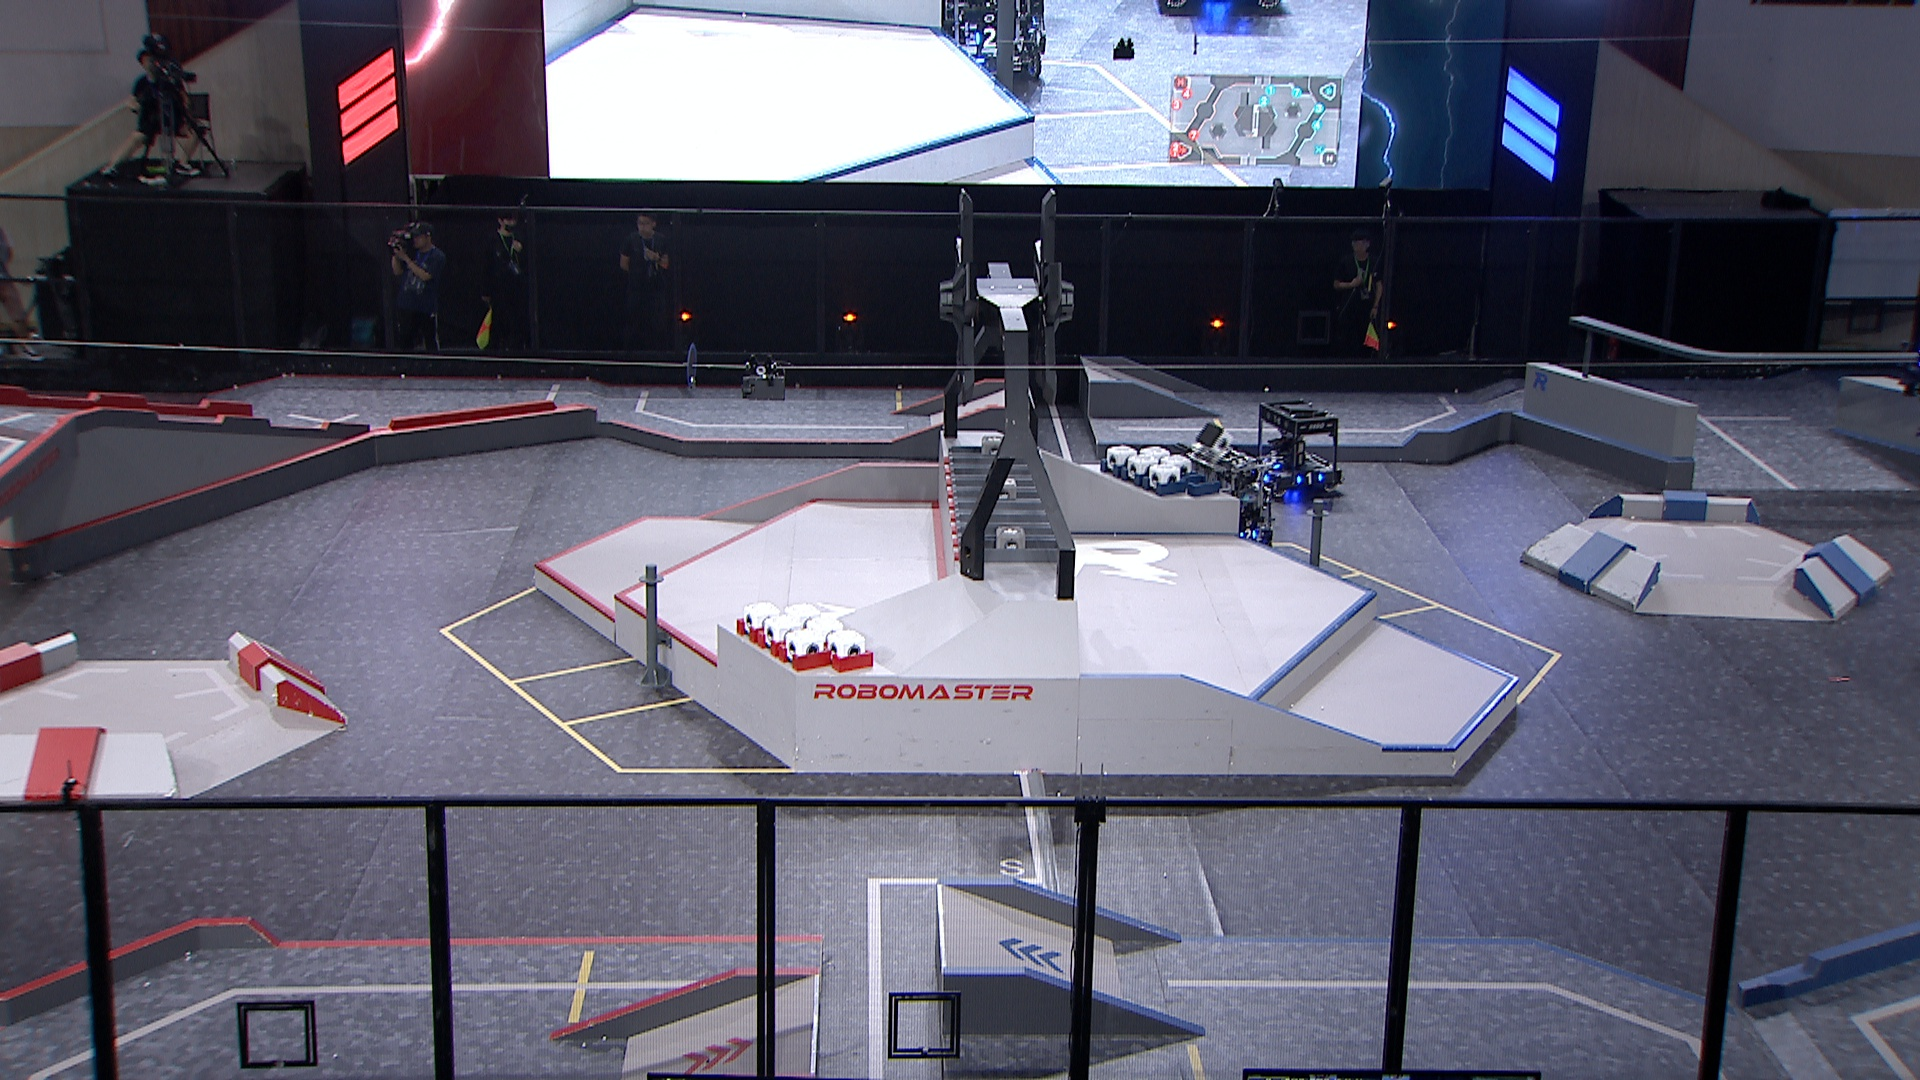armor: (1300, 471, 1323, 488), (1242, 527, 1257, 538)
car: (1174, 439, 1273, 553), (1244, 400, 1342, 501)
watcher: (1892, 338, 1920, 400)
